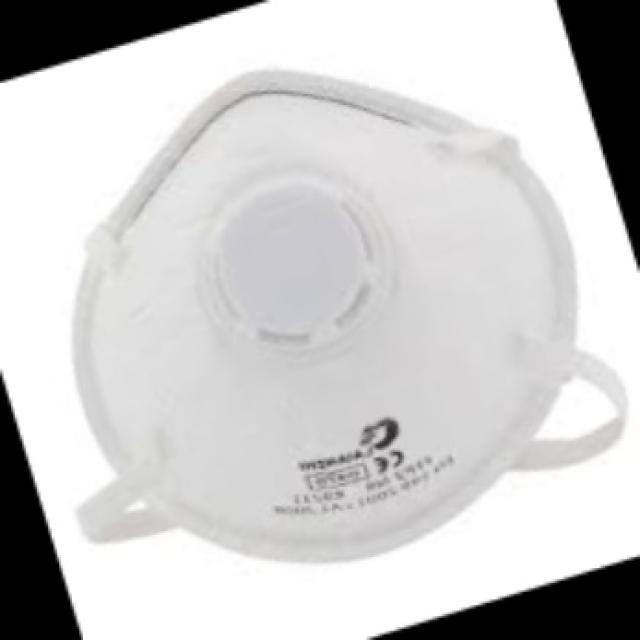masker: (76, 72, 627, 561), (39, 107, 611, 528)
